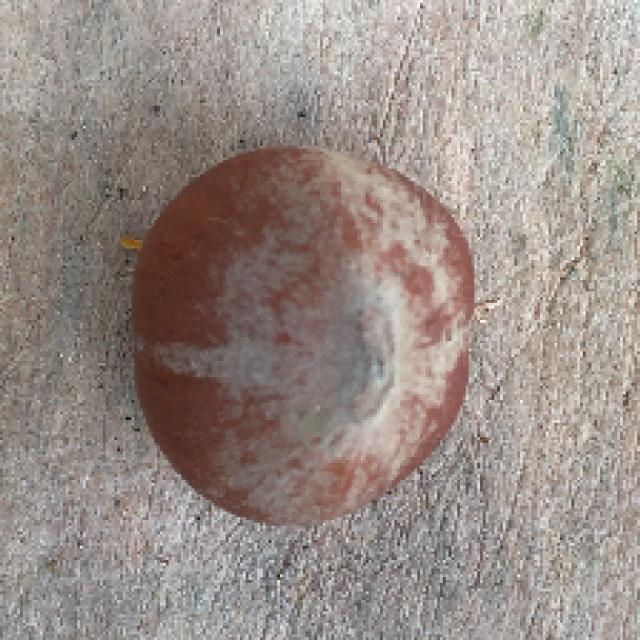qualityHazelnut: (132, 135, 482, 529)
